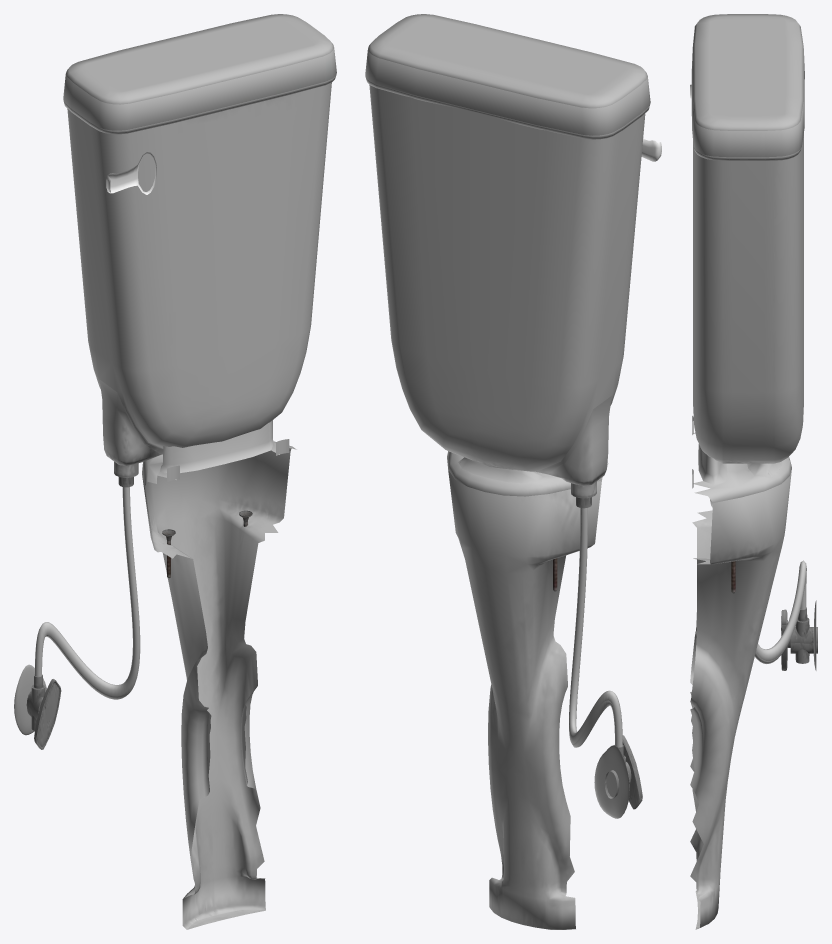
Rendered from toilet_tank.glb.
3 views of the same model, side by side, from view 1: azimuth 30°, elevation 25°; view 2: azimuth 150°, elevation 25°; view 3: azimuth 270°, elevation 25° (orthographic). The views are drawn at different scales.
Parts seen in each view (by area): view 1: Toilet.002, ToiletFlushHandle.002; view 2: Toilet.002; view 3: Toilet.002.
Boxes of the visible parts, x1,y1,x2,y2 form: Toilet.002: [14, 14, 336, 929]; ToiletFlushHandle.002: [106, 151, 156, 194]; Toilet.002: [365, 14, 650, 929]; Toilet.002: [690, 14, 817, 929].
Bounding box in the file's own units: 11.32 × 33.7 × 4.63.
1 material, 1 textured.
